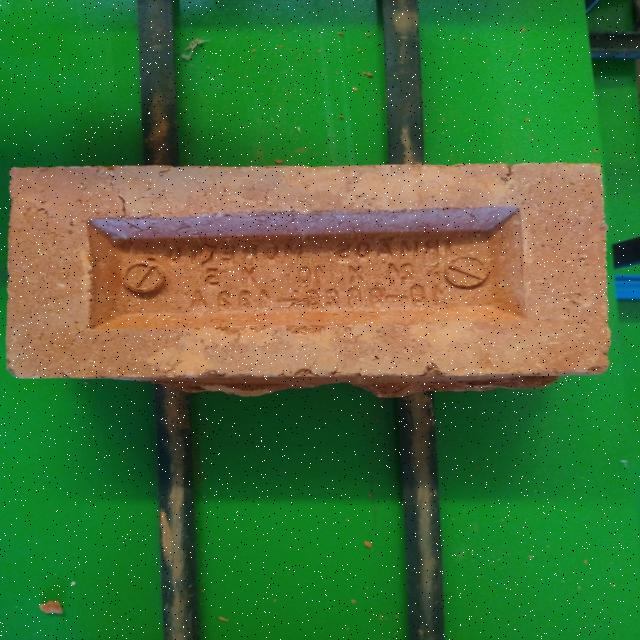bricks_ruin: (7, 164, 612, 397)
